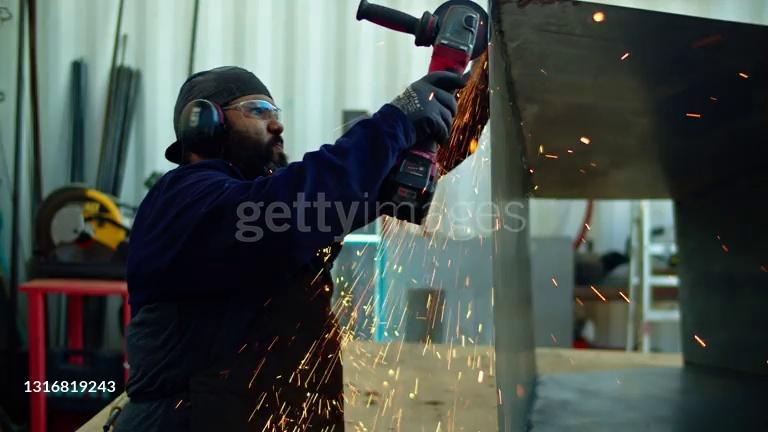person: (104, 67, 462, 432)
